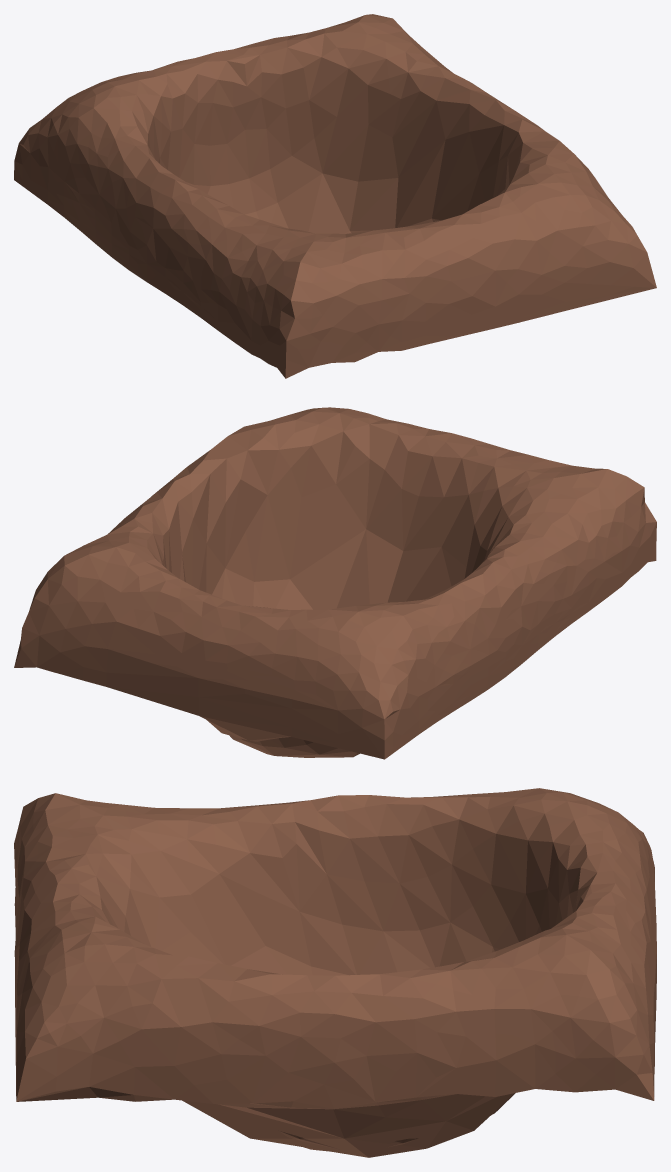
The model's file is GravePlotDug.fbx.
3 views of the same model, one above another, from view 1: azimuth 30°, elevation 25°; view 2: azimuth 150°, elevation 25°; view 3: azimuth 270°, elevation 25° (orthographic). The views are drawn at different scales.
Parts seen in each view (by area): view 1: GravePlotDug; view 2: GravePlotDug; view 3: GravePlotDug.
Boxes of the visible parts, x1,y1,x2,y2 form: GravePlotDug: (14, 14, 656, 378); GravePlotDug: (14, 407, 656, 759); GravePlotDug: (14, 788, 656, 1157).
Bounding box in the file's own units: 90.45 × 52.3 × 113.
